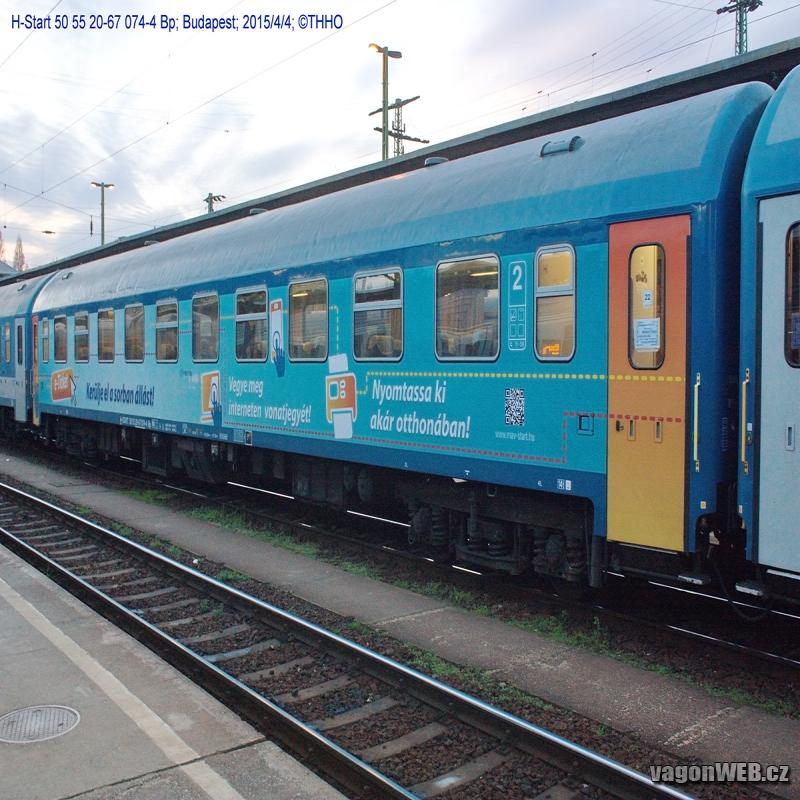train: (31, 82, 775, 643)
